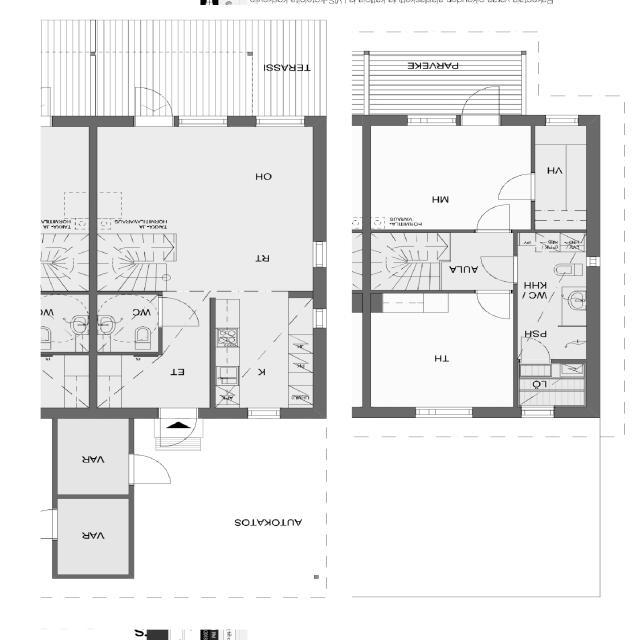door: (96, 128, 328, 286), (360, 117, 534, 232), (364, 290, 514, 411), (212, 292, 317, 413), (509, 230, 586, 362), (532, 120, 595, 232), (56, 415, 135, 494), (51, 494, 127, 571), (87, 290, 161, 353), (511, 364, 593, 409)
window: (164, 112, 314, 130), (408, 404, 479, 424), (397, 108, 457, 126), (244, 403, 281, 427), (307, 234, 331, 270), (311, 305, 333, 342), (520, 404, 560, 424), (544, 110, 581, 128), (583, 252, 599, 268)
zone: (119, 450, 176, 488), (465, 195, 515, 232), (478, 251, 524, 290), (485, 172, 541, 204), (158, 404, 196, 450), (473, 288, 515, 324), (154, 295, 197, 328), (514, 334, 559, 364)
